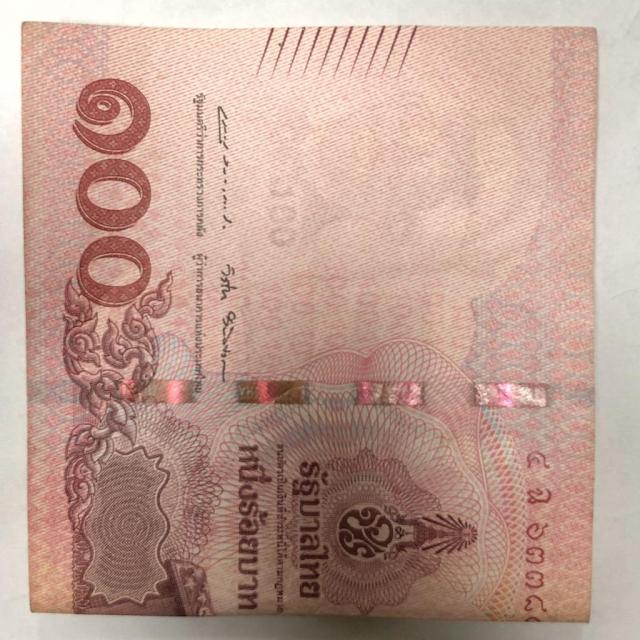THAI100: (20, 22, 598, 626)
